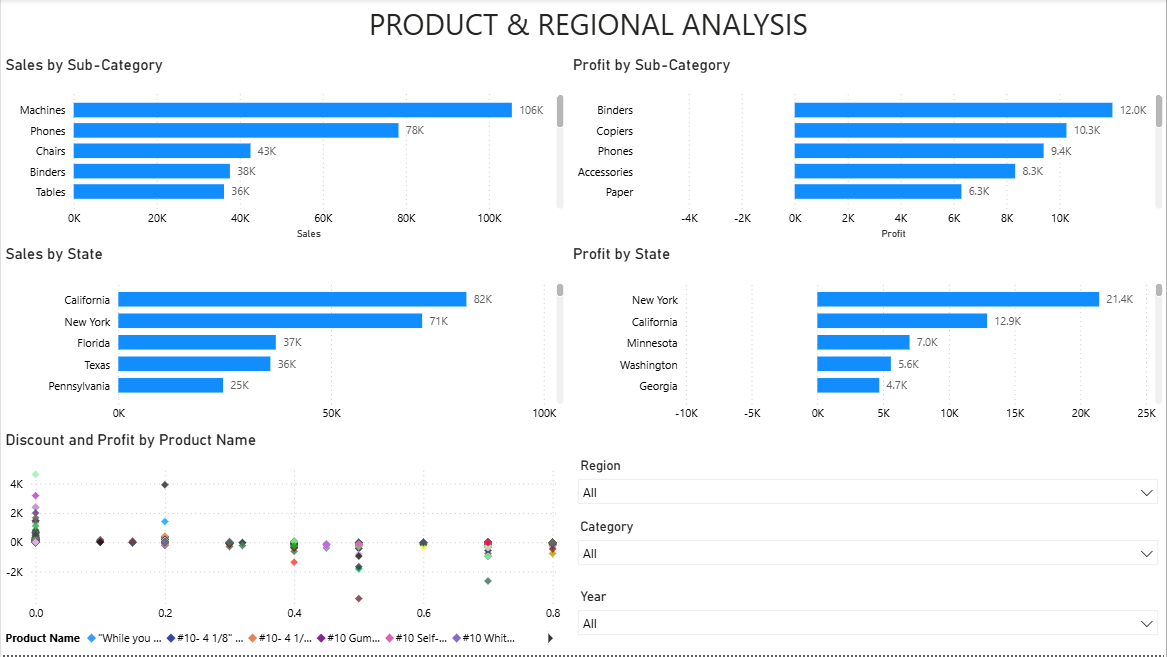

What the dashboard file says about the page in this screenshot:
{"tool":"powerbi","page":{"name":"Product & Regional Analysis","canvas":[1280,720],"ordinal":1},"visuals":[{"type":"textbox","box":[9.6,0,1270.7,61.7],"z":0},{"type":"clusteredBarChart","fields":{"Category":["Superstore Sales csv.Sub-Category"],"Y":["Sum(Superstore Sales csv.Sales)"]},"box":[0,61.7,623,207.2],"z":1000},{"type":"clusteredBarChart","fields":{"Category":["Superstore Sales csv.Sub-Category"],"Y":["Sum(Superstore Sales csv.Profit)"]},"box":[623,61.7,657.3,207.2],"z":2000},{"type":"clusteredBarChart","fields":{"Category":["Superstore Sales csv.State"],"Y":["Sum(Superstore Sales csv.Sales)"]},"box":[0,269,623,204.5],"z":3000},{"type":"clusteredBarChart","fields":{"Y":["Sum(Superstore Sales csv.Profit)"],"Category":["Superstore Sales csv.State"]},"box":[623,269,657.3,204.5],"z":4000},{"type":"scatterChart","fields":{"X":["Avg(Superstore Sales csv.Discount)"],"Y":["Sum(Superstore Sales csv.Profit)"],"Series":["Superstore Sales csv.Product Name"]},"box":[0,473.4,623,247],"z":5000},{"type":"slicer","fields":{"Values":["Superstore Sales csv.Region"]},"box":[623,498.1,657.3,67.2],"z":6000},{"type":"slicer","fields":{"Values":["Superstore Sales csv.Order Date.Variation.Date Hierarchy.Year"]},"box":[623,642.2,657.3,78.2],"z":7000},{"type":"slicer","fields":{"Values":["Superstore Sales csv.Category"]},"box":[623,565.4,657.3,76.8],"z":8000}]}

Visuals, with their boxes in screenshot pixels (x1, y1, x2, y2), scaled from the page's 1280x720 canvas onto the 1167x657 screenshot:
textbox: (9,0,1166,56)
clusteredBarChart - Superstore Sales csv.Sub-Category x Sum(Superstore Sales csv.Sales): (0,56,568,245)
clusteredBarChart - Superstore Sales csv.Sub-Category x Sum(Superstore Sales csv.Profit): (568,56,1166,245)
clusteredBarChart - Superstore Sales csv.State x Sum(Superstore Sales csv.Sales): (0,245,568,432)
clusteredBarChart - Sum(Superstore Sales csv.Profit) x Superstore Sales csv.State: (568,245,1166,432)
scatterChart - Avg(Superstore Sales csv.Discount) x Sum(Superstore Sales csv.Profit): (0,432,568,656)
slicer - Superstore Sales csv.Region: (568,455,1166,516)
slicer - Superstore Sales csv.Order Date.Variation.Date Hierarchy.Year: (568,586,1166,656)
slicer - Superstore Sales csv.Category: (568,516,1166,586)
